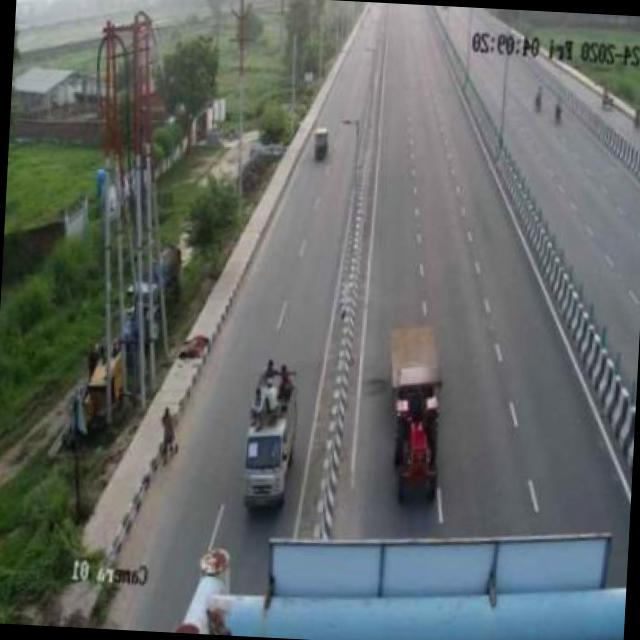car: (225, 375, 302, 510)
